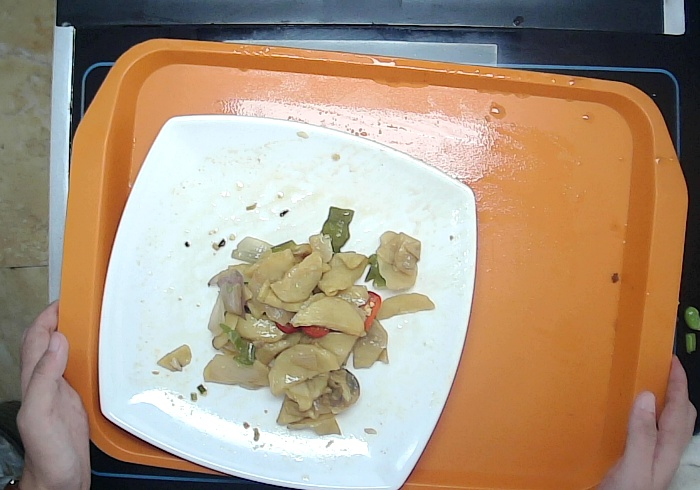ZNLD-Bai_Fang_Pan: (96, 112, 479, 490)
